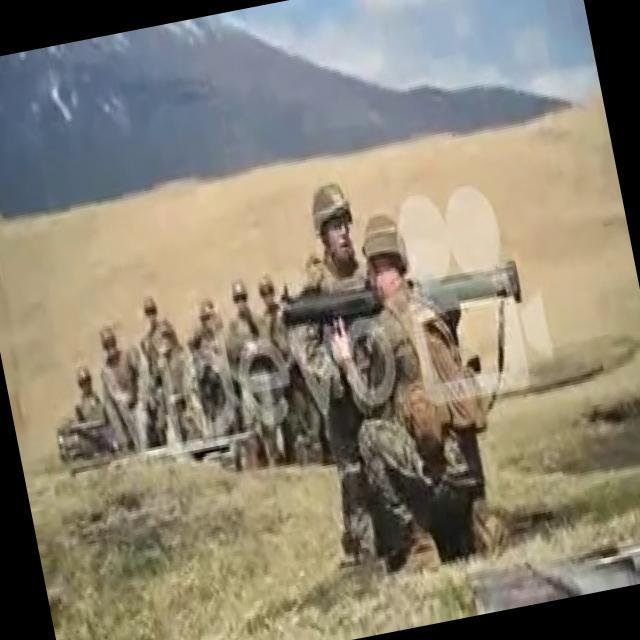rocket: (274, 248, 523, 348)
